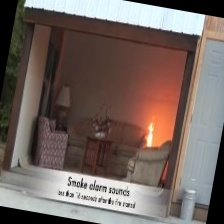fire: (135, 111, 165, 152)
